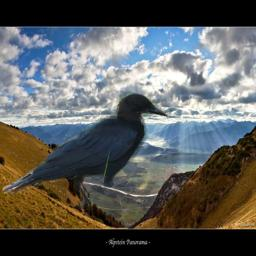Crow: (2, 92, 168, 210)
